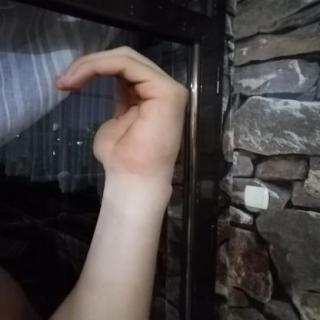HAA: (41, 34, 204, 190)
